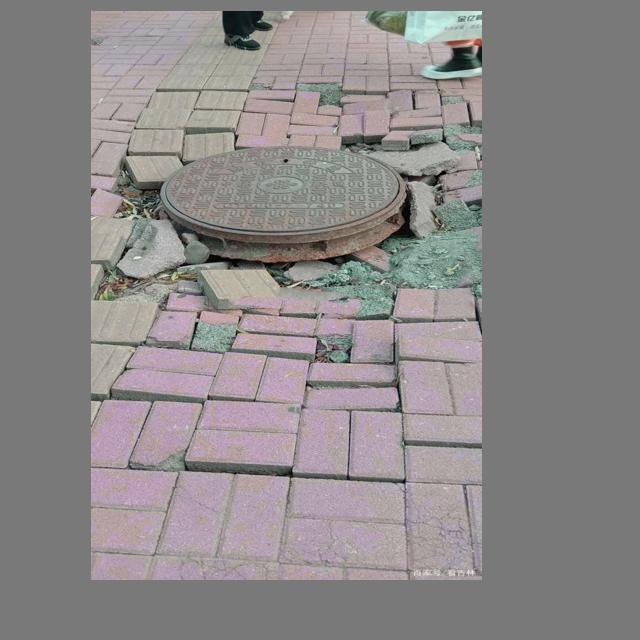circle: (99, 96, 477, 370)
